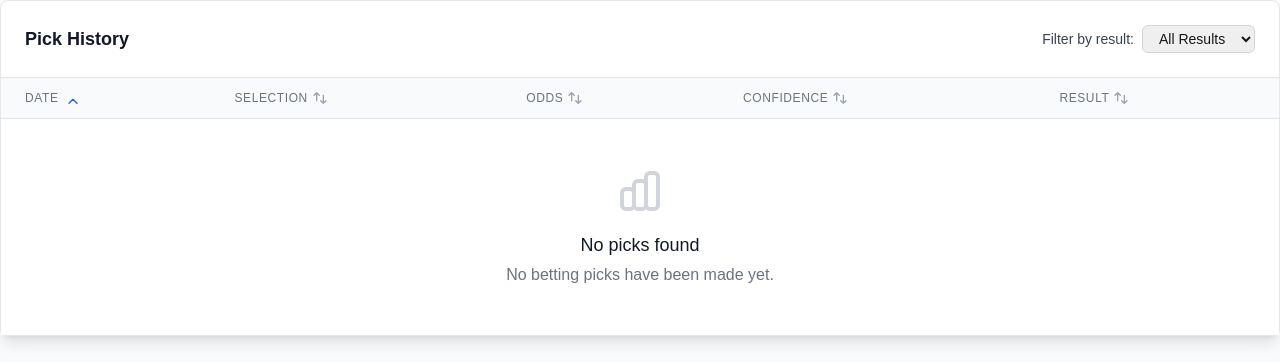
HistoryTable › shows filtered empty state
Select "Wins" in the dropdown labelled "Filter by result:" at (1198, 39), box [1142, 25, 1255, 53]
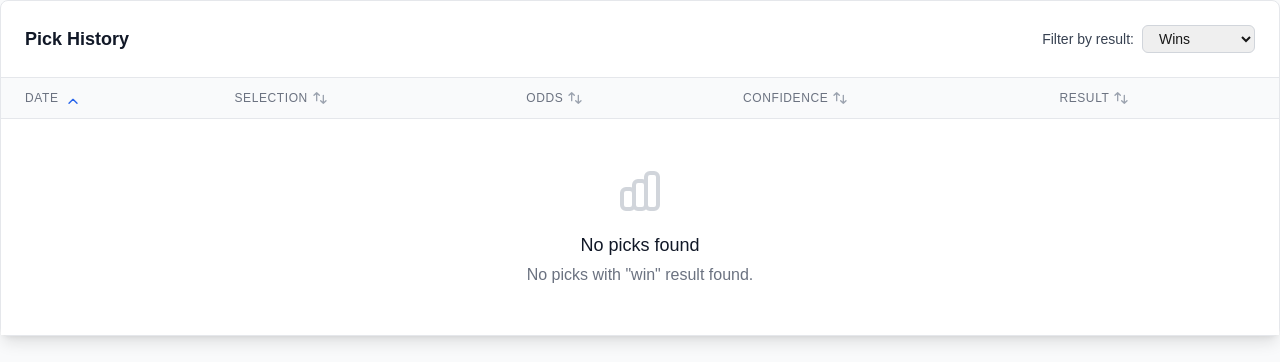
Check: the text "No picks with \"win\" result found." is shown, box [527, 266, 753, 283]
